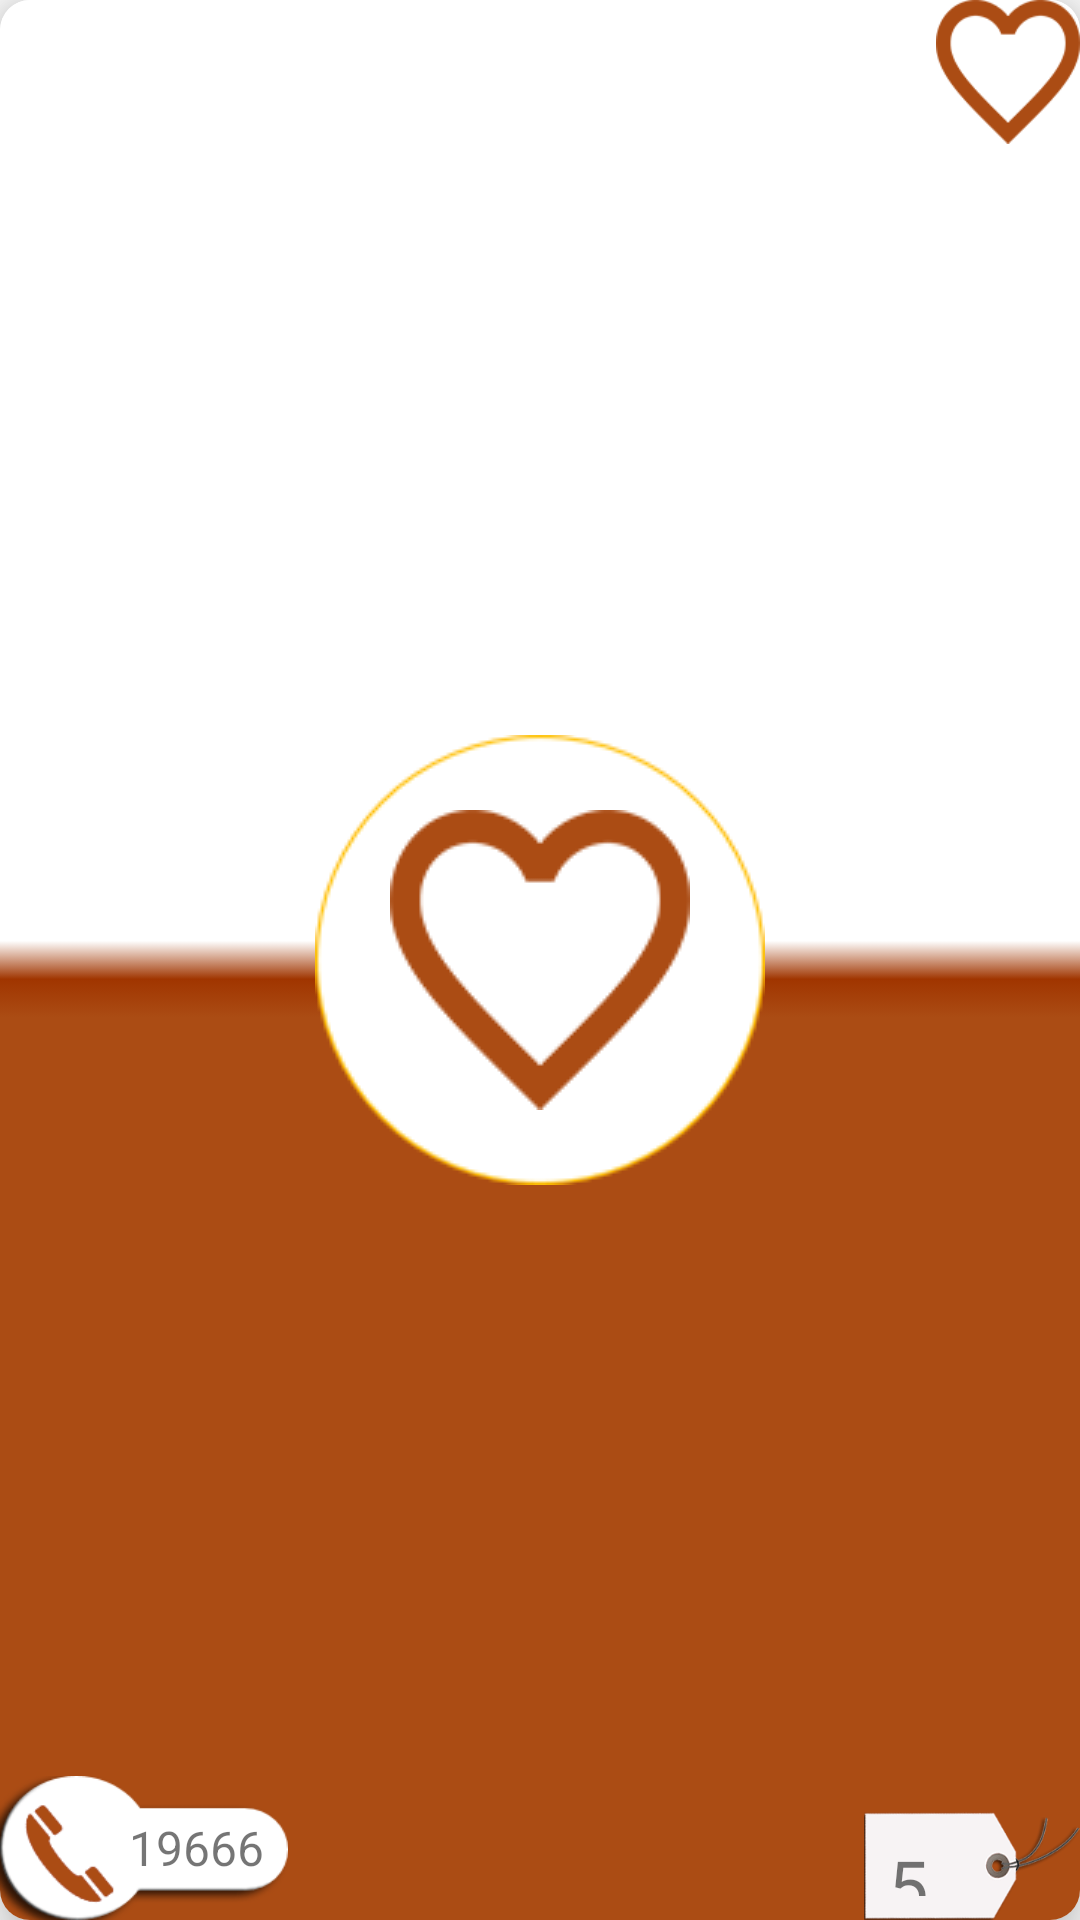

Icon click points for this 1080w x 1920h phone screenshot, format (x=x, y=y):
favorite border: (x=1008, y=72), (x=540, y=960)
